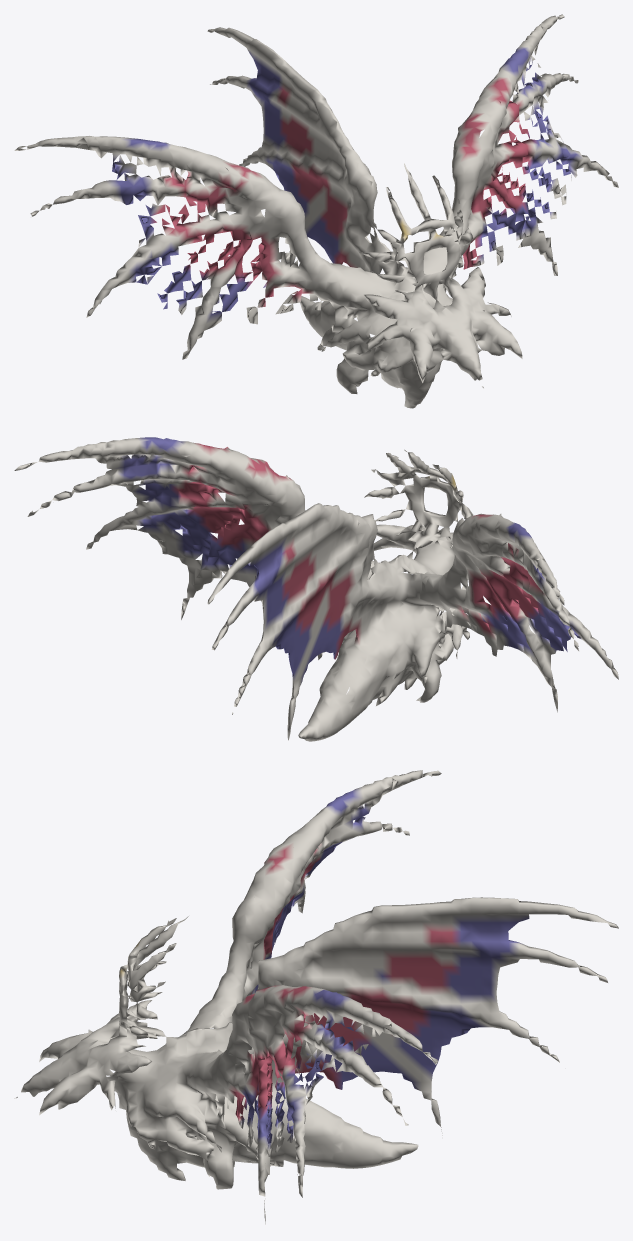
The model's file is drg3d_lo.glb.
The picture shows the model from 3 angles, top to bottom: view 1: azimuth 30°, elevation 25°; view 2: azimuth 150°, elevation 25°; view 3: azimuth 270°, elevation 25°; orthographic projection. The views are drawn at different scales.
Size of the model in its own units: 1.93 by 0.8645 by 1.67.
